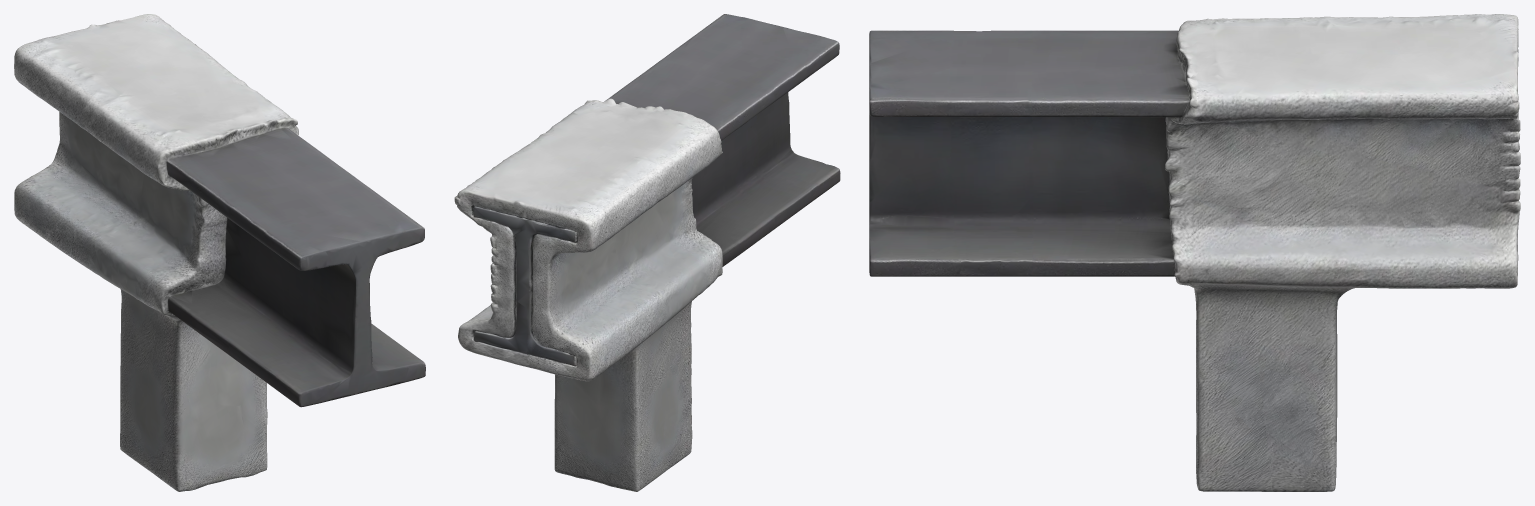
File: fireproofed-beam.glb
3 views of the same model, side by side, from view 1: azimuth 30°, elevation 25°; view 2: azimuth 150°, elevation 25°; view 3: azimuth 270°, elevation 25° (orthographic). The views are drawn at different scales.
Visible parts, largest first — view 1: tripo_node_74ba4006-91f4-48fd-abcc-52d0427f9992; view 2: tripo_node_74ba4006-91f4-48fd-abcc-52d0427f9992; view 3: tripo_node_74ba4006-91f4-48fd-abcc-52d0427f9992.
Part boxes in pixels (left/top/right/bottom): tripo_node_74ba4006-91f4-48fd-abcc-52d0427f9992: left=14, top=14, right=425, bottom=491; tripo_node_74ba4006-91f4-48fd-abcc-52d0427f9992: left=454, top=14, right=840, bottom=491; tripo_node_74ba4006-91f4-48fd-abcc-52d0427f9992: left=869, top=14, right=1520, bottom=491.
Size of the model in its own units: 0.311 by 0.7115 by 0.9998.
Materials: 1 (1 with a texture image).
